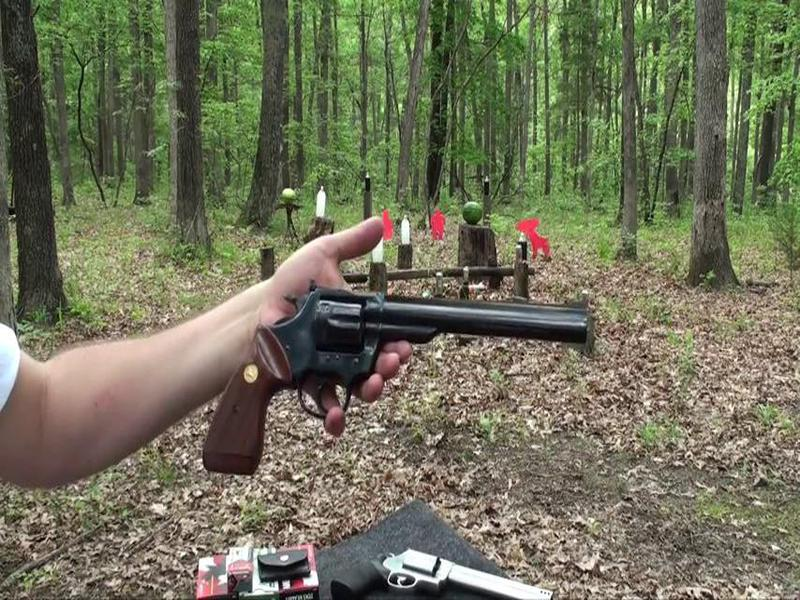Revolver: (227, 273, 609, 417)
